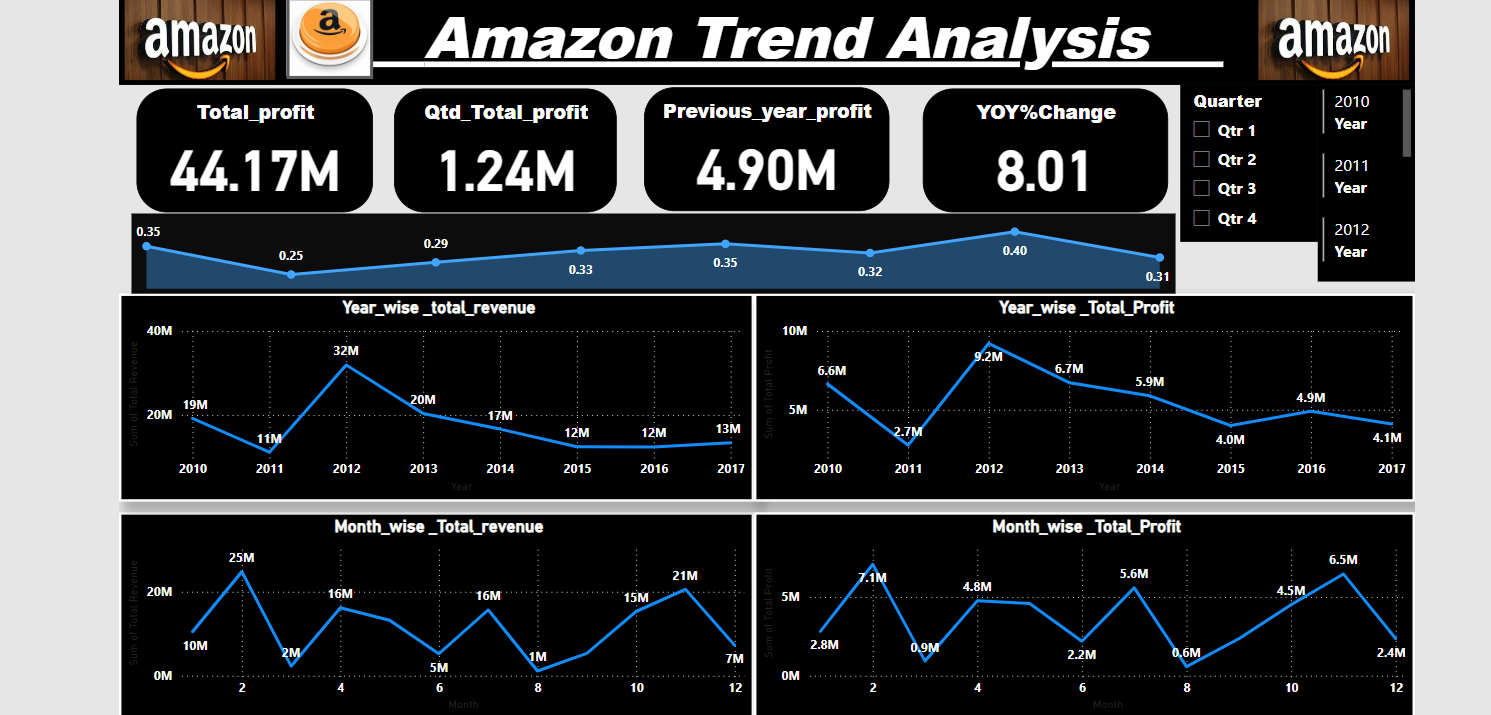

What the dashboard file says about the page in this screenshot:
{"tool":"powerbi","page":{"name":"Amazon_Trend_analysis","canvas":[1280,720],"ordinal":2},"visuals":[{"type":"lineChart","title":"Month_wise _Total_revenue","fields":{"Y":["Sum(Amazon Sales data.Total Revenue)"],"Category":["Amazon Sales data.Month"]},"box":[0,514.8,627.3,205.4],"z":0},{"type":"lineChart","title":"Year_wise _total_revenue","fields":{"Y":["Sum(Amazon Sales data.Total Revenue)"],"Category":["Amazon Sales data.Year"]},"box":[0,298.4,627.3,205.4],"z":1000},{"type":"lineChart","title":"Year_wise _Total_Profit","fields":{"Y":["Sum(Amazon Sales data.Total Profit)"],"Category":["Amazon Sales data.Year"]},"box":[627.3,298.4,653,205.4],"z":2000},{"type":"lineChart","title":"Month_wise _Total_Profit","fields":{"Y":["Sum(Amazon Sales data.Total Profit)"],"Category":["Amazon Sales data.Month"]},"box":[627.3,514.8,653,205.4],"z":3000},{"type":"textbox","box":[0,0,1280.3,92.9],"z":4000},{"type":"card","title":"Total_profit","fields":{"Values":["data.sum_profit"]},"box":[17.1,96.6,233.6,122.3],"z":5000},{"type":"card","title":"Qtd_Total_profit","fields":{"Values":["data.qtd_amazon_profit"]},"box":[271.5,96.6,220.1,122.3],"z":6000},{"type":"card","title":"Previous_year_profit","fields":{"Values":["data.ytd_profit"]},"box":[518.5,95.4,242.1,122.3],"z":7000},{"type":"slicer","fields":{"Values":["data.Order Date MonthYear.Variation.Date Hierarchy.Quarter"]},"box":[1048,92.9,135.7,155.3],"z":8000},{"type":"multiRowCard","fields":{"Values":["data.Order Date.Variation.Date Hierarchy.Year"]},"box":[1183.7,92.9,96.6,194.4],"z":9000},{"type":"image","box":[1120.1,0,160.2,92.9],"z":10000},{"type":"image","box":[0,0,160.2,92.9],"z":11000},{"type":"card","title":"YOY%Change","fields":{"Values":["data.YOY%_Change"]},"box":[793.6,96.6,242.1,122.3],"z":12000},{"type":"image","box":[160.2,0,95.4,90.5],"z":13000},{"type":"actionButton","box":[165.1,6.1,85.6,80.7],"z":14000},{"type":"areaChart","fields":{"Category":["data.Order Date.Variation.Date Hierarchy.Year"],"Y":["data.Profit Margin"]},"box":[12.2,220.1,1030.8,79.5],"z":14001}]}

Visuals, with their boxes in screenshot pixels (x1, y1, x2, y2):
"Month_wise _Total_revenue" lineChart: BBox(113, 511, 749, 714)
"Year_wise _total_revenue" lineChart: BBox(113, 291, 749, 499)
"Year_wise _Total_Profit" lineChart: BBox(749, 291, 1411, 499)
"Month_wise _Total_Profit" lineChart: BBox(749, 511, 1411, 714)
textbox: BBox(113, 0, 1411, 83)
"Total_profit" card: BBox(130, 86, 367, 210)
"Qtd_Total_profit" card: BBox(388, 86, 611, 210)
"Previous_year_profit" card: BBox(639, 85, 884, 209)
slicer - data.Order Date MonthYear.Variation.Date Hierarchy.Quarter: BBox(1176, 83, 1313, 240)
multiRowCard - data.Order Date.Variation.Date Hierarchy.Year: BBox(1313, 83, 1411, 280)
image: BBox(1249, 0, 1411, 83)
image: BBox(113, 0, 275, 83)
"YOY%Change" card: BBox(918, 86, 1163, 210)
image: BBox(275, 0, 372, 80)
actionButton: BBox(280, 0, 367, 76)
areaChart - data.Order Date.Variation.Date Hierarchy.Year x data.Profit Margin: BBox(125, 212, 1171, 292)
